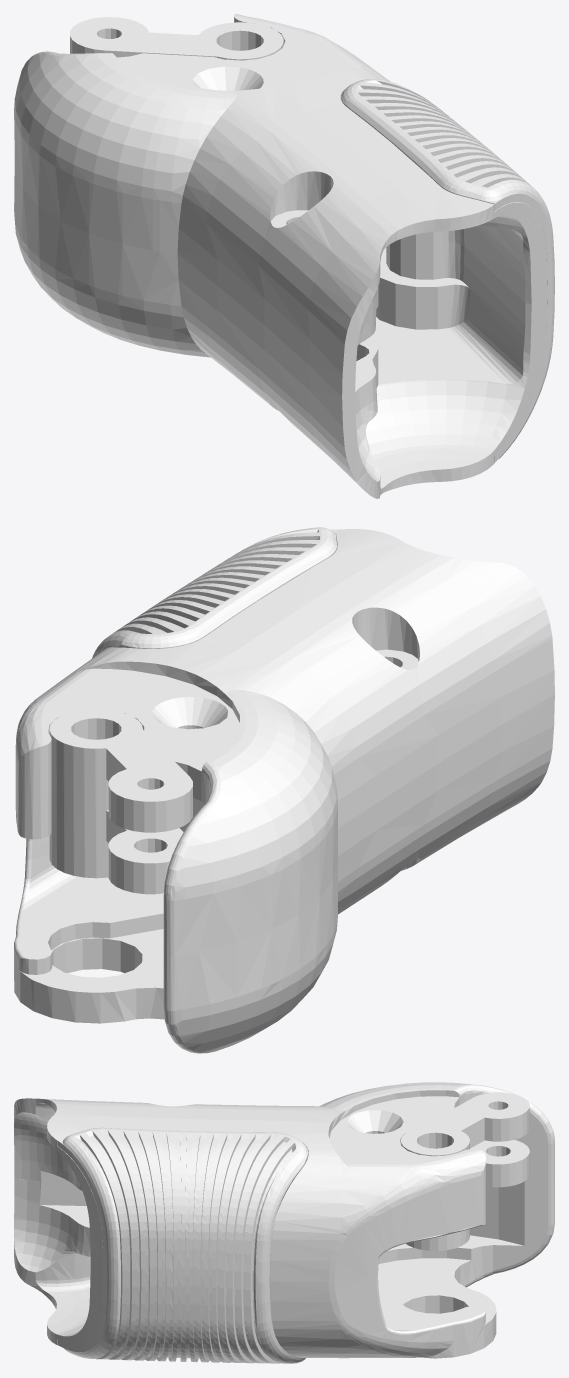
File: lh_thumb_proximal_vis.obj
3 views of the same model, one above another, from view 1: azimuth 30°, elevation 25°; view 2: azimuth 150°, elevation 25°; view 3: azimuth 270°, elevation 25° (orthographic). The views are drawn at different scales.
Parts seen in each view (by area): view 1: lh_thumb_proximal; view 2: lh_thumb_proximal; view 3: lh_thumb_proximal.
Boxes of the visible parts, box(x1,y1,x2,y2) form: lh_thumb_proximal: box(14, 14, 554, 498); lh_thumb_proximal: box(14, 527, 554, 1053); lh_thumb_proximal: box(14, 1082, 554, 1363).
Bounding box in the file's own units: 0.023 × 0.0191 × 0.043.
Materials: 1 (1 with a texture image).
